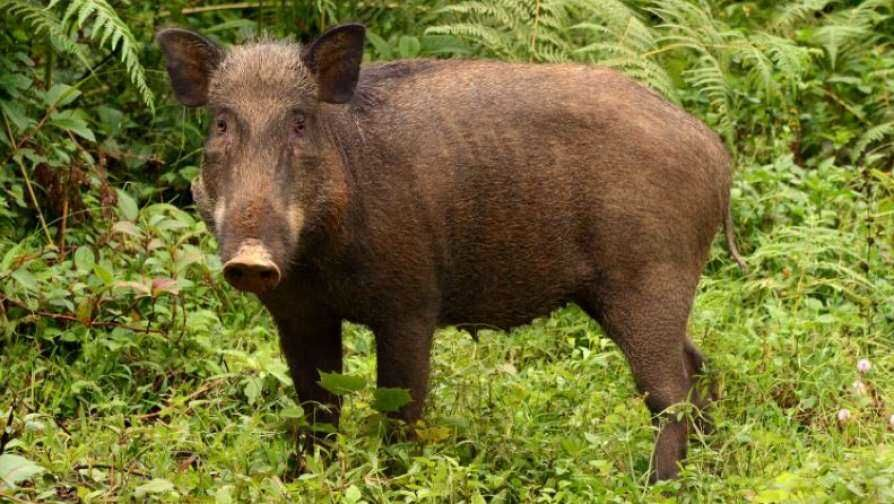wild boar: (136, 17, 770, 488)
